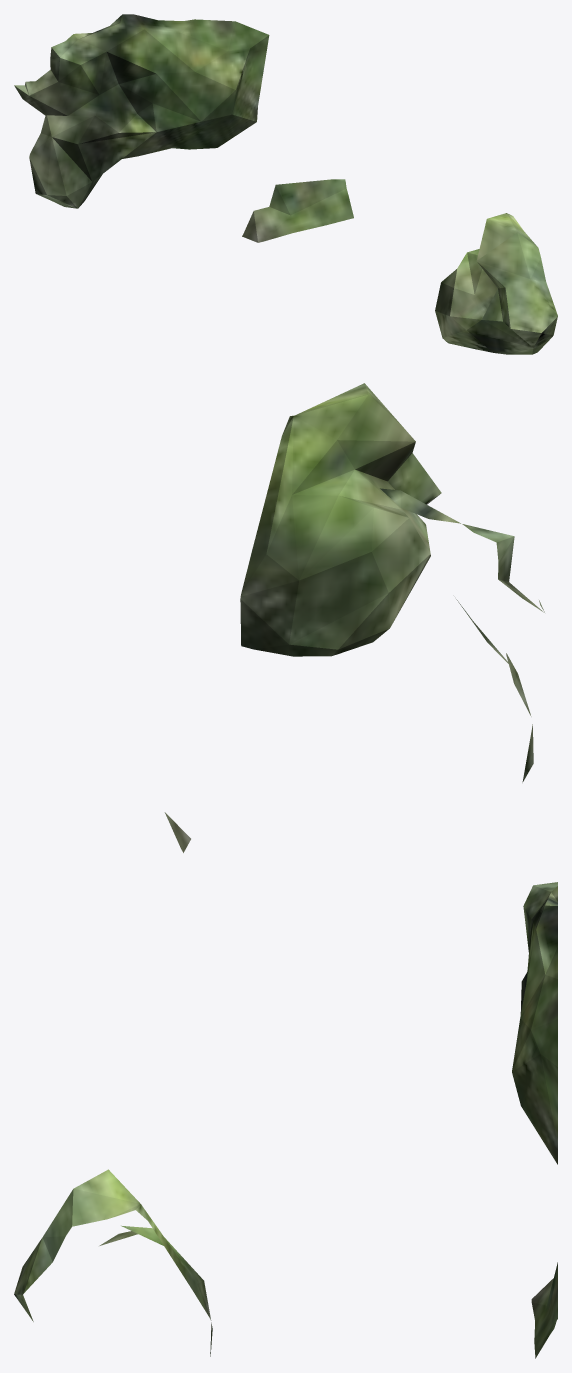
3 renders of one model, top to bottom at view 1: azimuth 30°, elevation 25°; view 2: azimuth 150°, elevation 25°; view 3: azimuth 270°, elevation 25°, orthographic. The views are drawn at different scales.
Bounding box in the file's own units: 10.32 × 7.49 × 11.68.
1 material, 1 textured.
